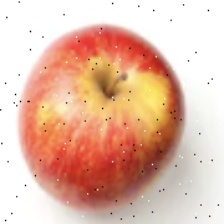apple: (36, 38, 204, 223)
